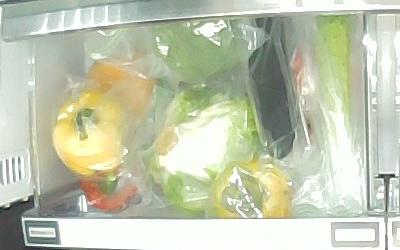broccoli_vinyl: (151, 19, 242, 84)
cucumber_vinyl: (316, 15, 353, 146)
eggplant_vinyl: (247, 17, 296, 159)
lettuce_vinyl: (146, 92, 255, 211)
paprika_vinyl: (53, 92, 127, 176), (78, 168, 136, 211)
peach_vinyl: (88, 50, 152, 120)
persimmon_vinyl: (214, 160, 291, 219)
